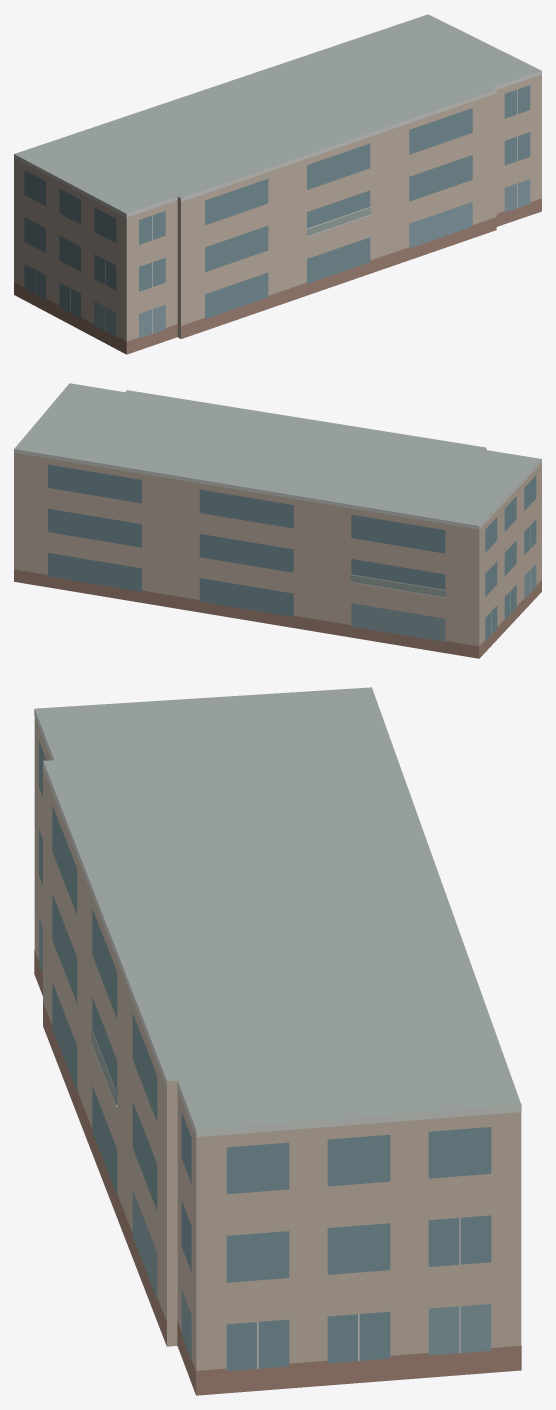
Rendered from survey-upis-32840703.glb.
3 renders of one model, top to bottom at view 1: azimuth 30°, elevation 25°; view 2: azimuth 150°, elevation 25°; view 3: azimuth 270°, elevation 25°, orthographic. The views are drawn at different scales.
Visible parts, largest first — view 1: survey-upis-32840703.tmp; view 2: survey-upis-32840703.tmp; view 3: survey-upis-32840703.tmp.
Part boxes in pixels (x1,y1,x2,y2): survey-upis-32840703.tmp: [14, 14, 541, 354]; survey-upis-32840703.tmp: [14, 383, 541, 658]; survey-upis-32840703.tmp: [34, 687, 521, 1395].
Bounding box in the file's own units: 32.75 × 9.15 × 15.23.
